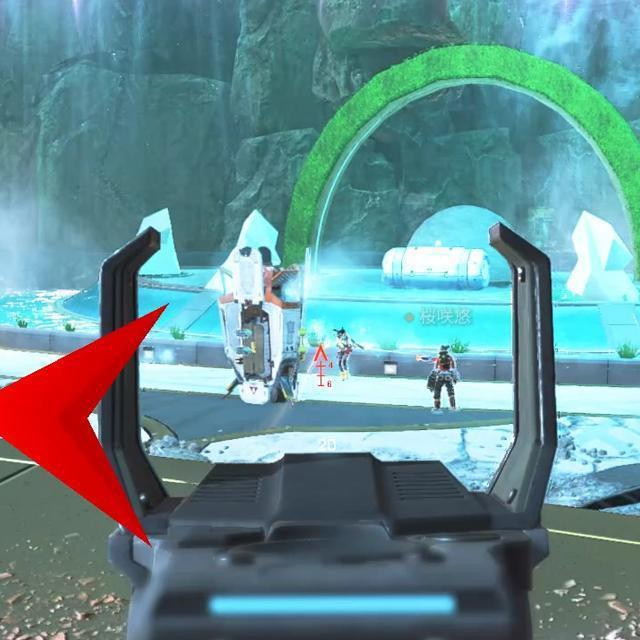avatar: (425, 342, 460, 412)
